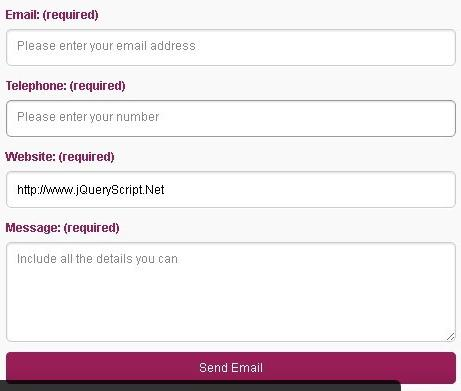button: (3, 351, 457, 386)
field: (4, 240, 457, 345), (3, 98, 457, 139), (2, 169, 458, 209), (4, 27, 457, 67)
